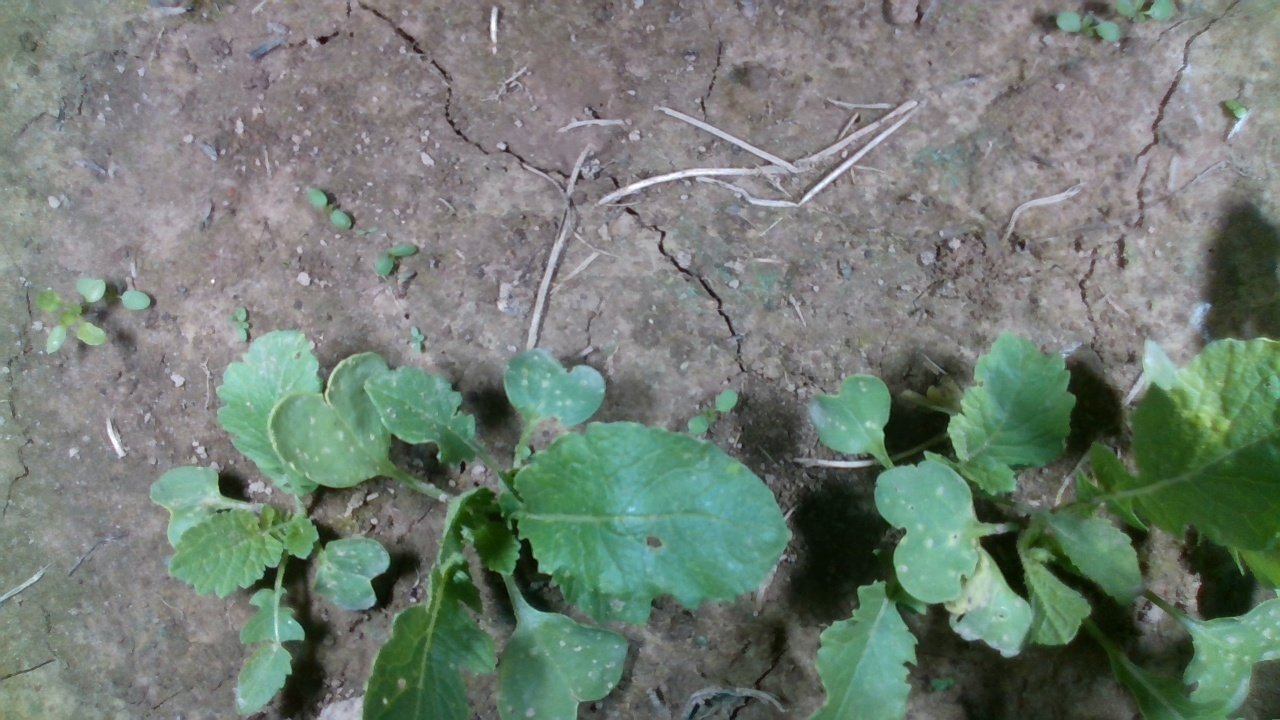weed: (687, 388, 740, 434), (305, 187, 352, 229), (374, 242, 417, 278), (1224, 97, 1248, 121), (408, 325, 426, 355), (234, 306, 248, 342)
